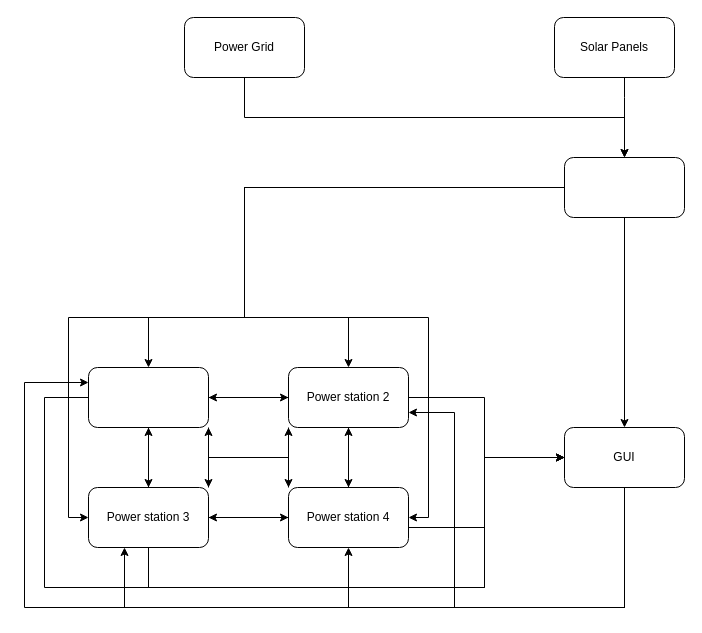
Some shapes in this 702 by 633 pixel diagram are drawn without their labels. Each missing label, with the centre of its shape:
Building: (624,187)
Power station 1: (148,397)
